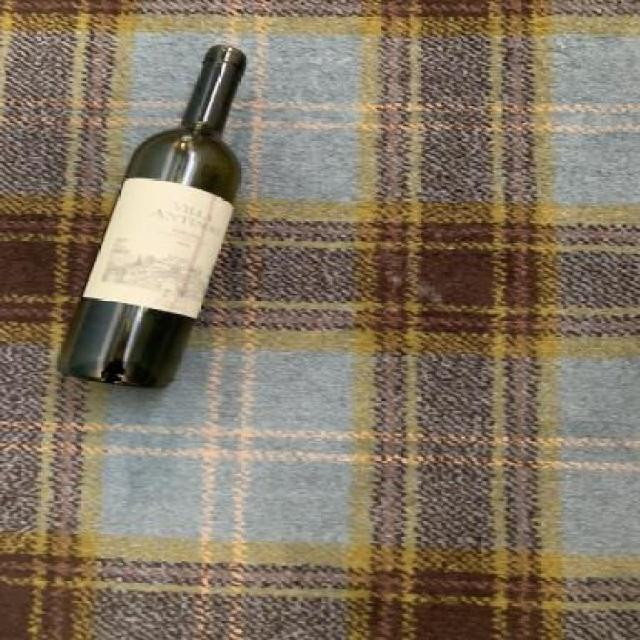trash: (56, 43, 255, 392)
